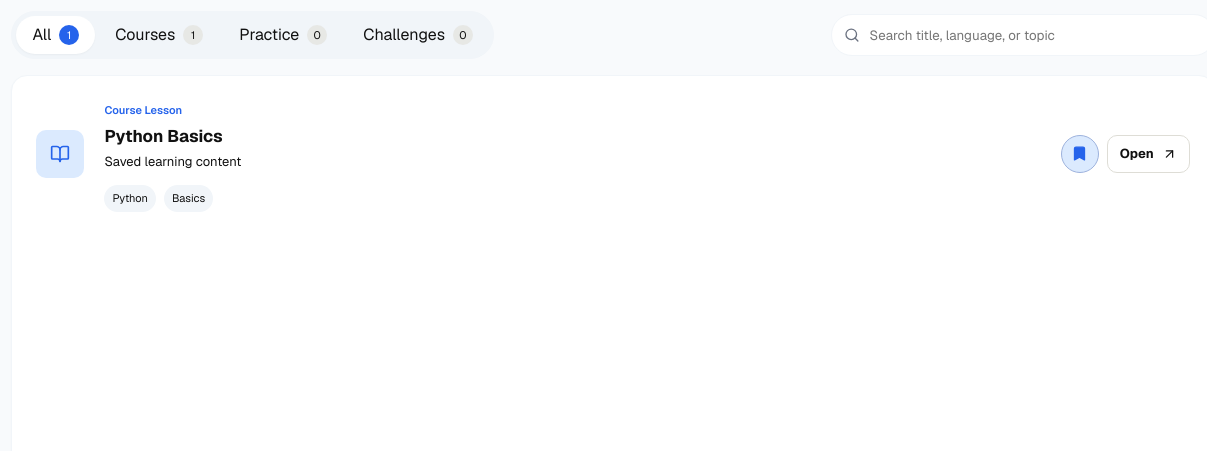
it: Bookmarks compact layout › preserves unbookmark behavior and updates counts
Click the button named "Remove Python Basics from Library" at {"x": 1080, "y": 154}, box [1061,135,1099,173]
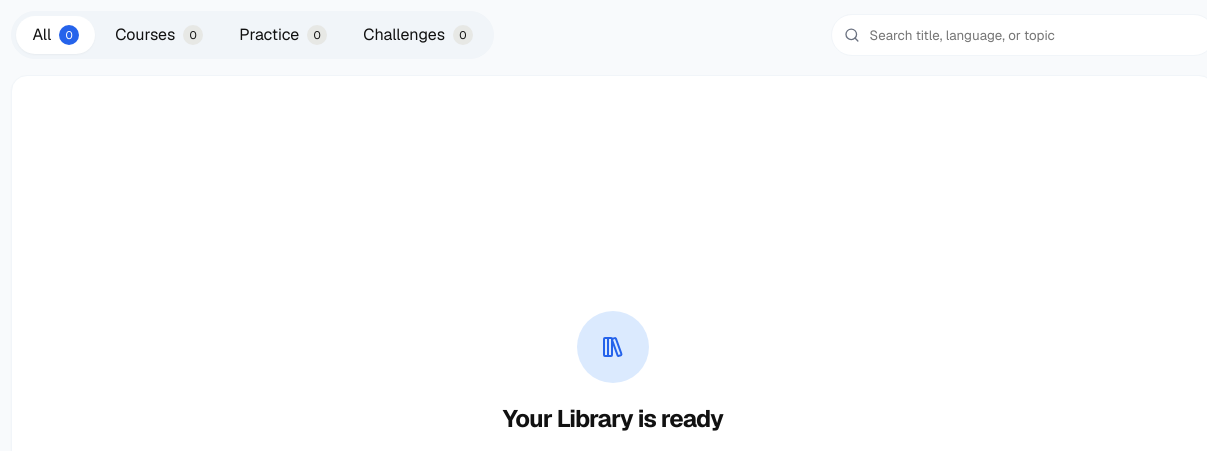
Expected: the tab named "All0" is shown, [16,16,95,54]
Expected: the heading "Your Library is ready" is shown, [503,403,723,435]
